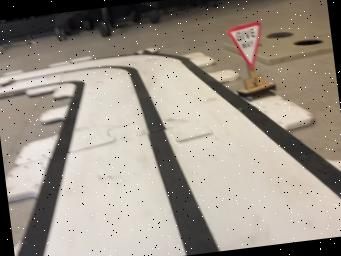give_way: (226, 20, 275, 96), (226, 20, 275, 96), (226, 20, 275, 96), (226, 20, 275, 96), (226, 20, 275, 96), (226, 20, 275, 96)
street: (18, 50, 341, 256), (18, 50, 341, 256), (18, 50, 341, 256), (18, 50, 341, 256), (18, 50, 341, 256), (18, 50, 341, 256)
